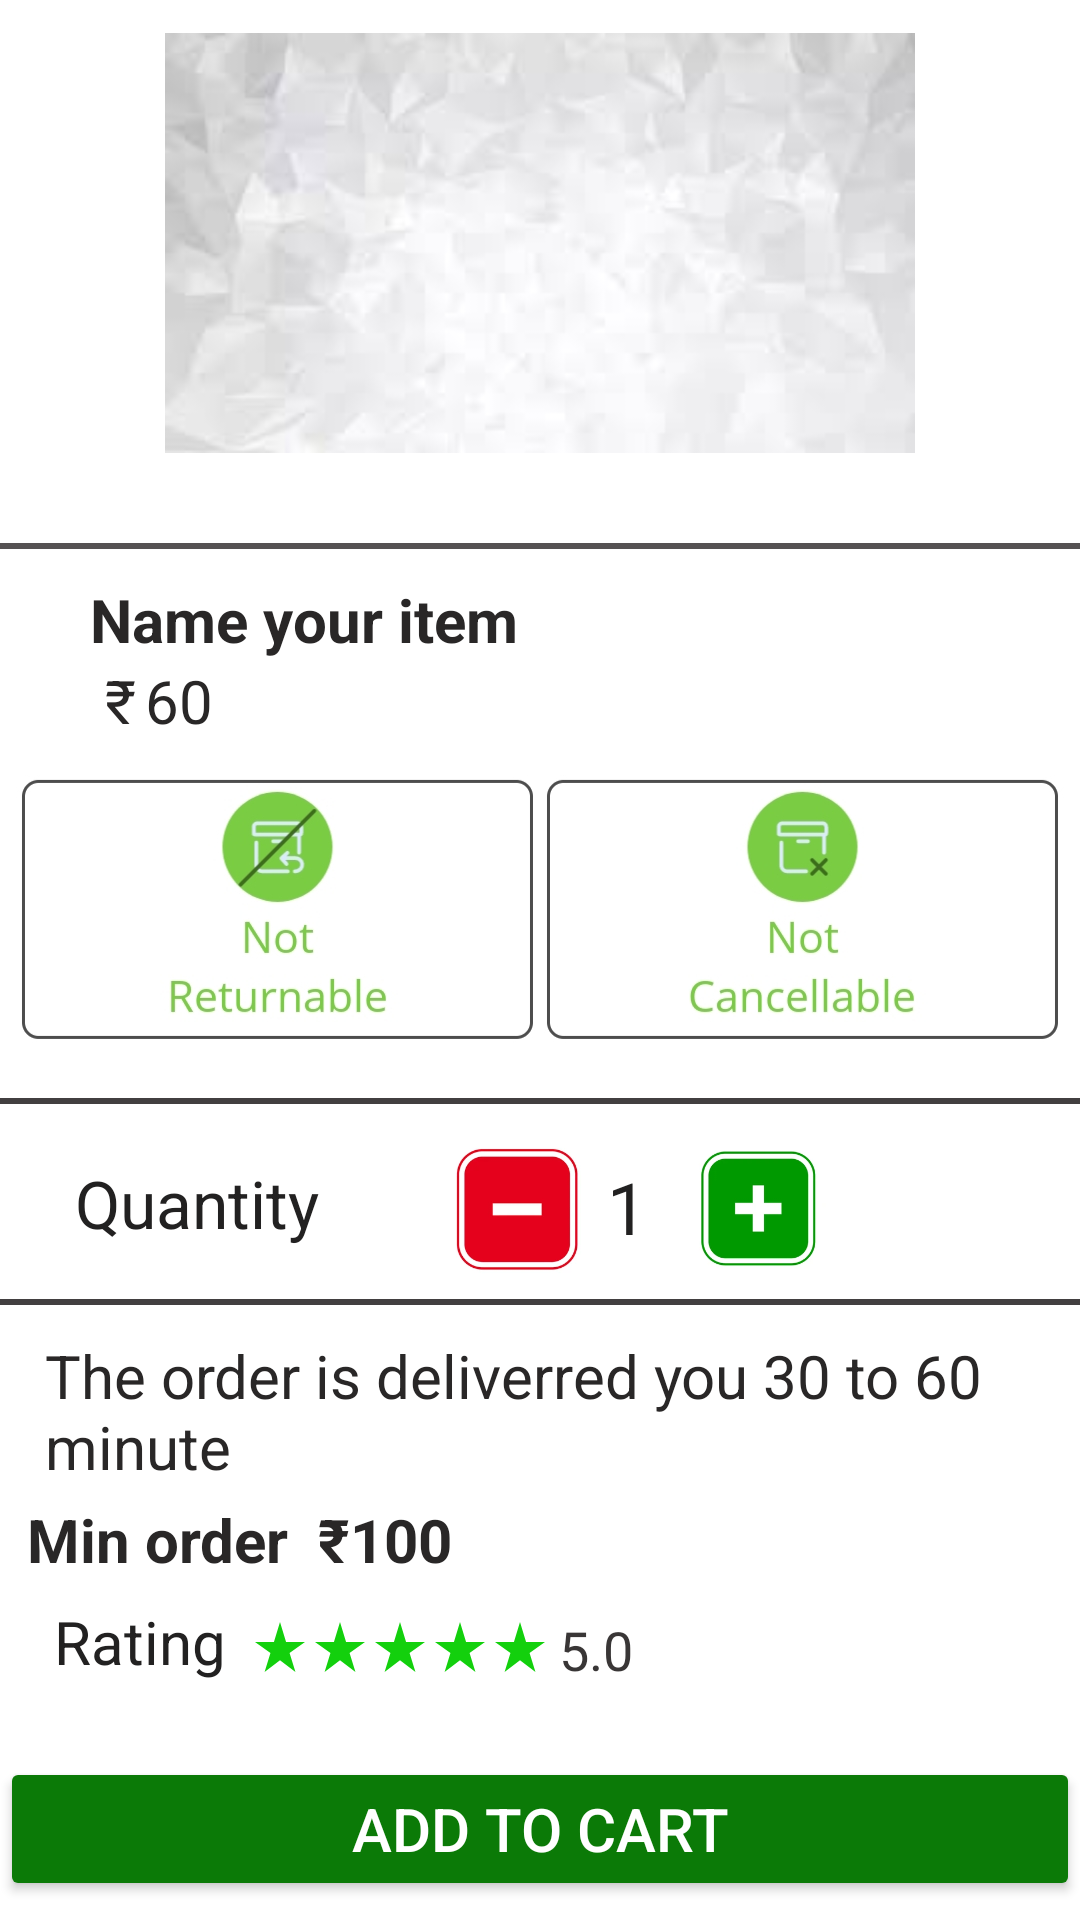

Screen size 1080px×1920px. Icon name, then its center in pixels as (x=x, y=y):
add: (x=758, y=1208)
minus: (x=517, y=1209)
star rate: (x=280, y=1647), (x=340, y=1647), (x=400, y=1647), (x=460, y=1647), (x=520, y=1647)
